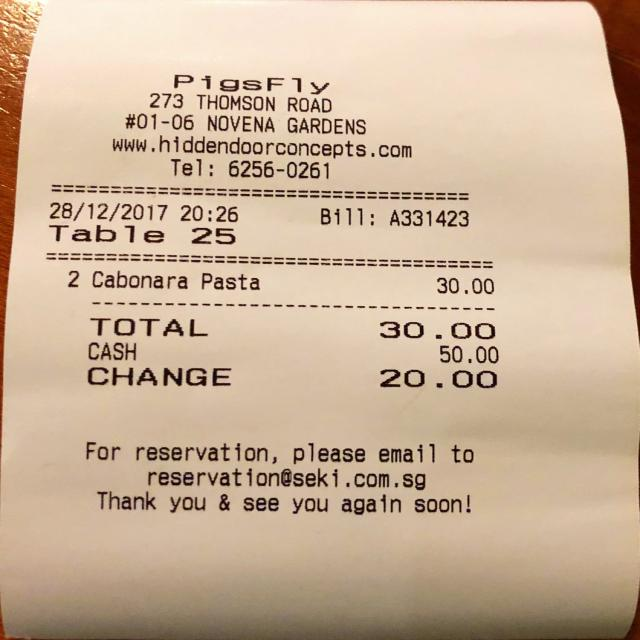bill_region: (55, 258, 507, 345)
